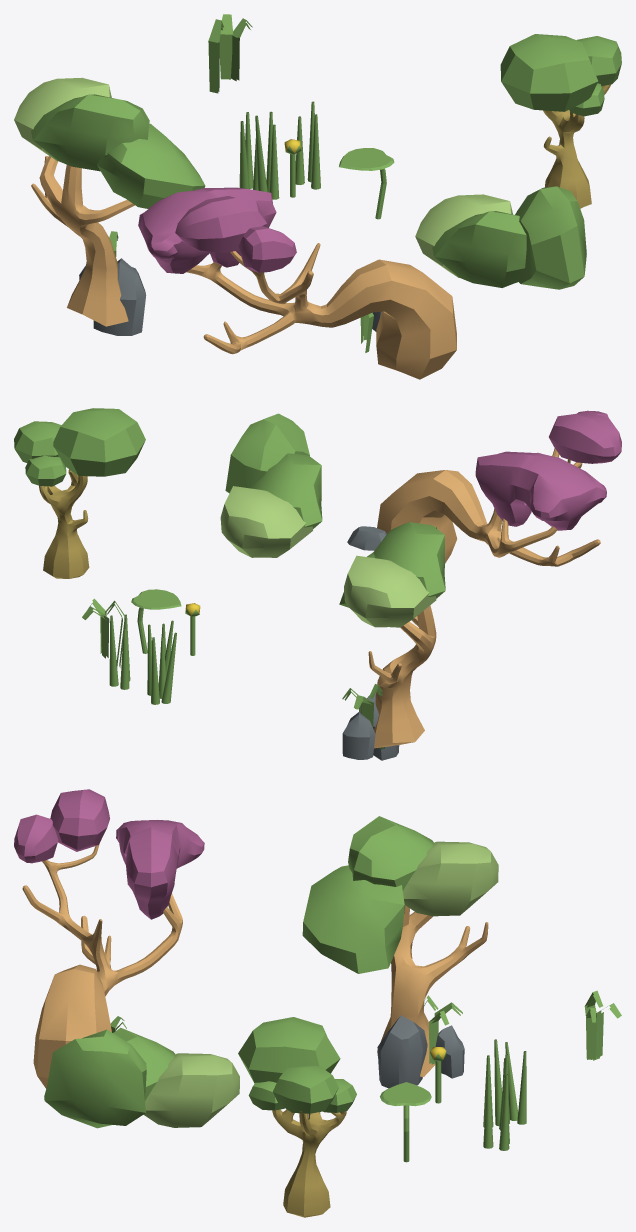
File: VegSmall.fbx
3 views of the same model, one above another, from view 1: azimuth 30°, elevation 25°; view 2: azimuth 150°, elevation 25°; view 3: azimuth 270°, elevation 25° (orthographic). The views are drawn at different scales.
Parts seen in each view (by area): view 1: tree cherry, tree, Bush, tree.006, GrassHigh, grass, WaterLilly, GrassHigh.001; view 2: tree cherry, tree, Bush, tree.006, GrassHigh, WaterLilly, GrassHigh.001, grass; view 3: tree, tree cherry, Bush, tree.006, GrassHigh, WaterLilly, grass, GrassHigh.001.
Boxes of the visible parts, <box> form: tree cherry: <box>138,187,456,379</box>; tree: <box>14,77,205,335</box>; Bush: <box>415,186,586,289</box>; tree.006: <box>500,34,621,208</box>; GrassHigh: <box>239,111,279,199</box>; grass: <box>208,14,252,93</box>; WaterLilly: <box>339,148,394,219</box>; GrassHigh.001: <box>295,101,320,189</box>; tree cherry: <box>347,410,621,566</box>; tree: <box>339,522,445,760</box>; Bush: <box>220,413,322,557</box>; tree.006: <box>14,408,145,578</box>; GrassHigh: <box>147,620,176,704</box>; WaterLilly: <box>131,589,181,653</box>; GrassHigh.001: <box>109,614,130,689</box>; grass: <box>82,598,125,667</box>; tree: <box>302,816,498,1088</box>; tree cherry: <box>14,789,204,1088</box>; Bush: <box>44,1027,239,1128</box>; tree.006: <box>238,1017,356,1217</box>; GrassHigh: <box>483,1039,526,1130</box>; WaterLilly: <box>380,1082,431,1162</box>; grass: <box>584,990,621,1060</box>; GrassHigh.001: <box>483,1074,509,1150</box>.
Size of the model in its own units: 800 by 361 by 766.
